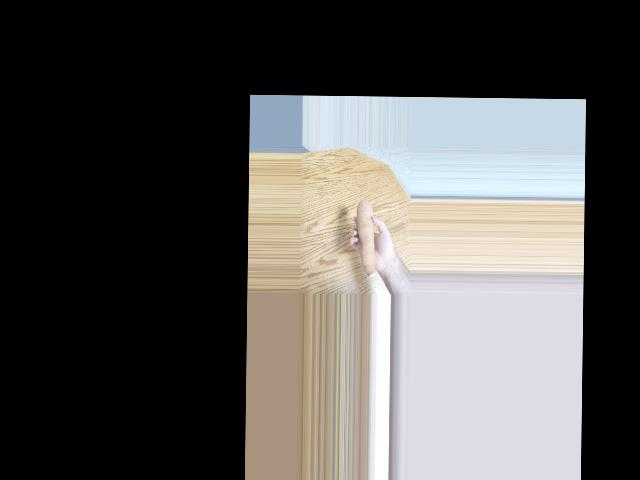sweet_potato: (350, 196, 375, 274)
